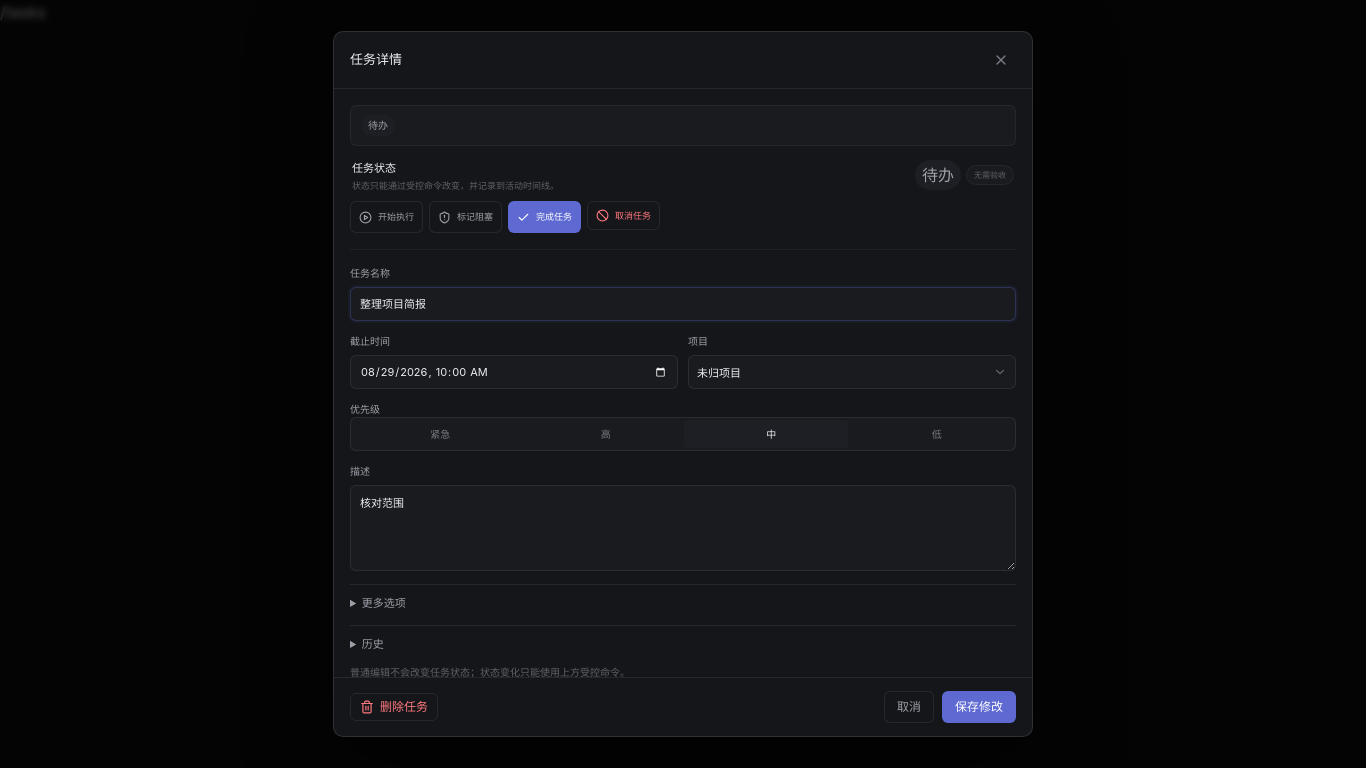
TaskDetailModal › requires saving fact changes before a lifecycle command
Expected: the button "开始执行" is enabled, [350,201,423,233]
Replace the text in the field labelled "任务名称" with "尚未保存的任务名称" at (683, 304), box [350,287,1016,321]
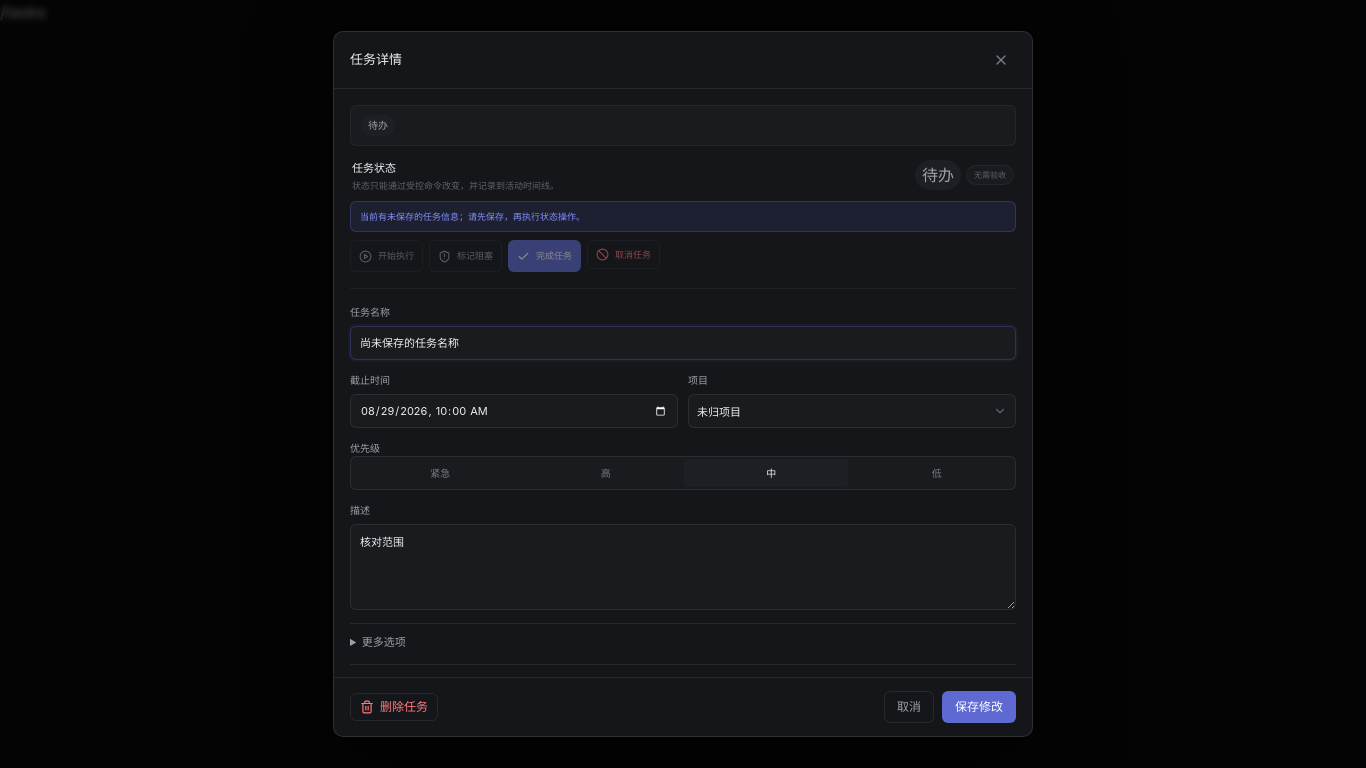
Expected: the text "当前有未保存的任务信息；请先保存，再执行状态操作。" is shown, [350,201,1016,232]
Expected: the button "开始执行" is disabled, [350,240,423,272]
